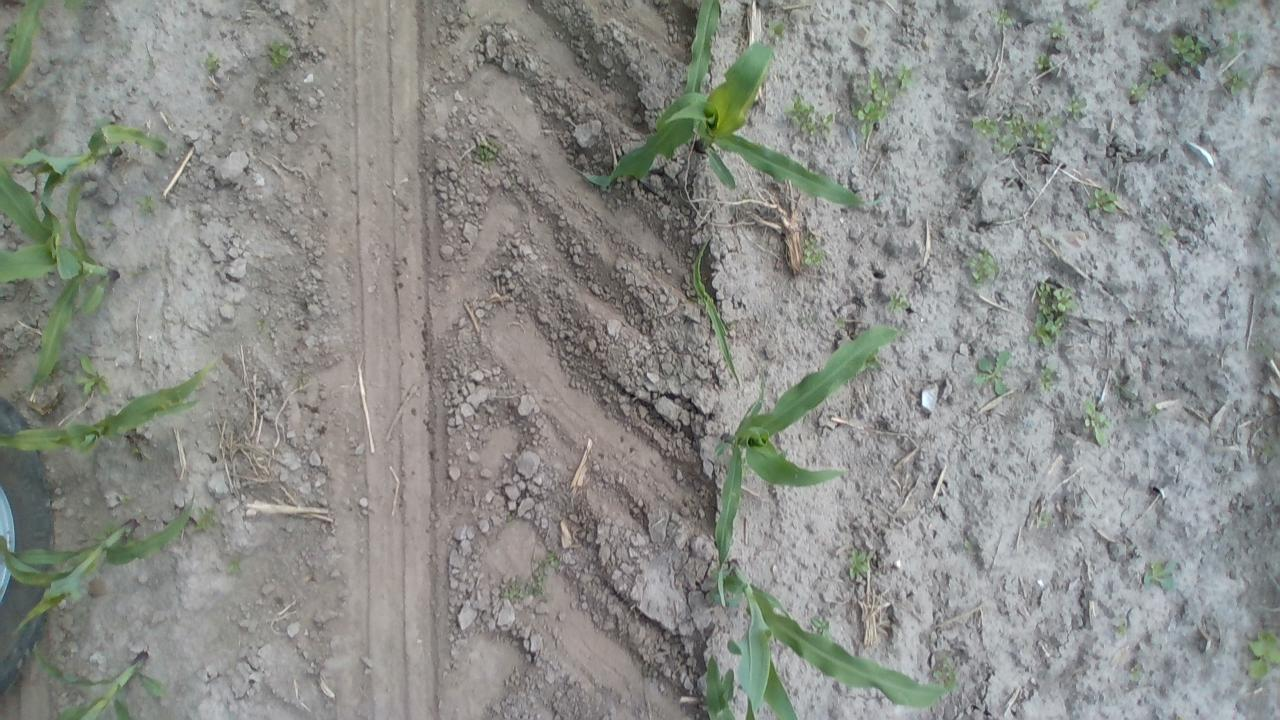Maize: (713, 323, 902, 606), (575, 36, 874, 212), (719, 560, 947, 708), (2, 490, 216, 634), (0, 167, 124, 380), (1, 360, 232, 463), (26, 636, 168, 718), (8, 122, 170, 176), (686, 231, 742, 385), (0, 0, 52, 97), (681, 0, 719, 93), (699, 651, 737, 720)
Weeds: (854, 66, 912, 131), (498, 550, 559, 600), (1034, 277, 1076, 347), (996, 114, 1050, 154), (785, 95, 832, 133), (971, 350, 1010, 395), (1246, 632, 1280, 680), (1168, 33, 1204, 76), (961, 246, 998, 283), (1137, 556, 1176, 590), (1079, 401, 1112, 441), (262, 38, 298, 73), (78, 360, 108, 394), (1090, 185, 1118, 216), (803, 234, 829, 267), (846, 549, 870, 581), (1224, 67, 1252, 93), (200, 50, 224, 80), (886, 288, 906, 320), (969, 108, 994, 133), (474, 141, 500, 165), (987, 8, 1018, 28), (1062, 96, 1084, 118), (1038, 364, 1055, 391), (134, 194, 158, 212), (1125, 83, 1146, 102), (1064, 0, 1101, 10), (1225, 31, 1251, 45), (1046, 20, 1066, 38), (1148, 64, 1170, 80), (1211, 46, 1236, 58), (1033, 55, 1050, 71), (769, 20, 786, 35), (1210, 1, 1238, 10), (101, 212, 114, 231), (226, 556, 242, 571), (256, 320, 266, 330)
